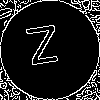Z: (25, 25, 62, 75)
